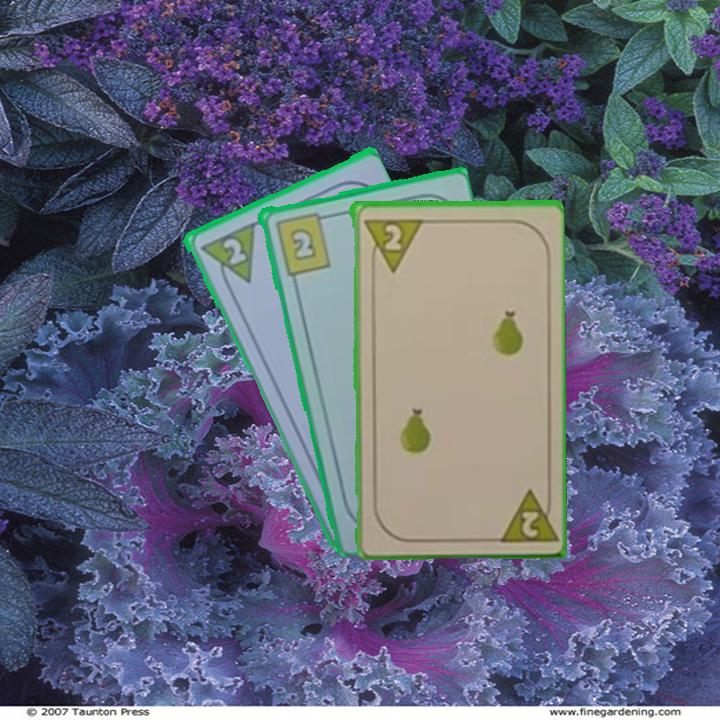2b: (271, 208, 333, 278)
2p: (492, 484, 557, 545), (359, 215, 422, 274), (218, 234, 249, 268)
